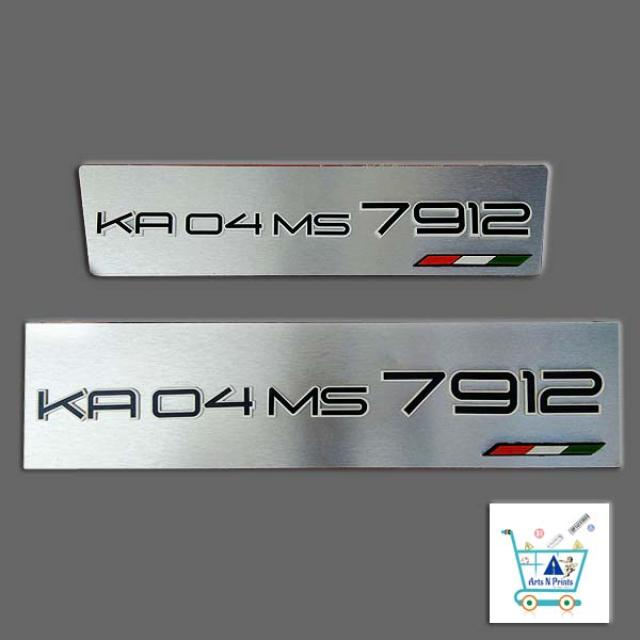plate: (19, 319, 629, 474), (80, 156, 549, 282)
